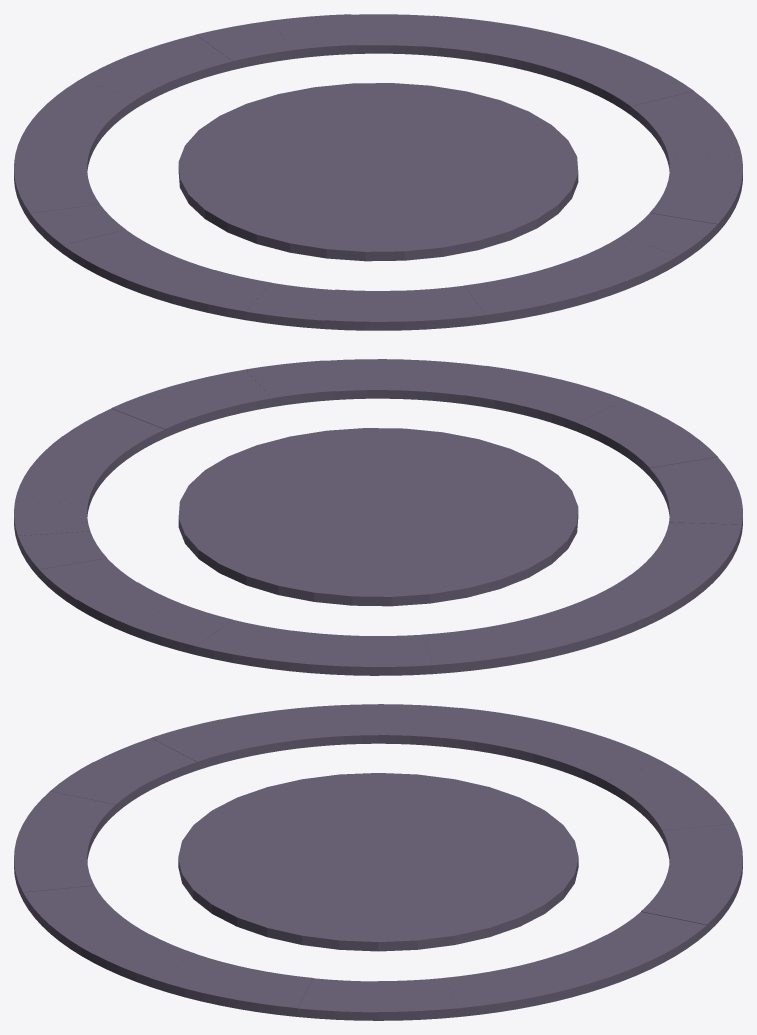
File: Plaza_Stone.fbx
The picture shows the model from 3 angles, top to bottom: view 1: azimuth 30°, elevation 25°; view 2: azimuth 150°, elevation 25°; view 3: azimuth 270°, elevation 25°; orthographic projection.
Visible parts, largest first — view 1: PlazaRing0_0.001; view 2: PlazaRing0_0.001; view 3: PlazaRing0_0.001.
Part boxes in pixels (x1,y1,x2,y2): PlazaRing0_0.001: [14, 14, 742, 330]; PlazaRing0_0.001: [14, 359, 742, 675]; PlazaRing0_0.001: [14, 704, 742, 1020].
Size of the model in its own units: 7170 by 101 by 7170.
